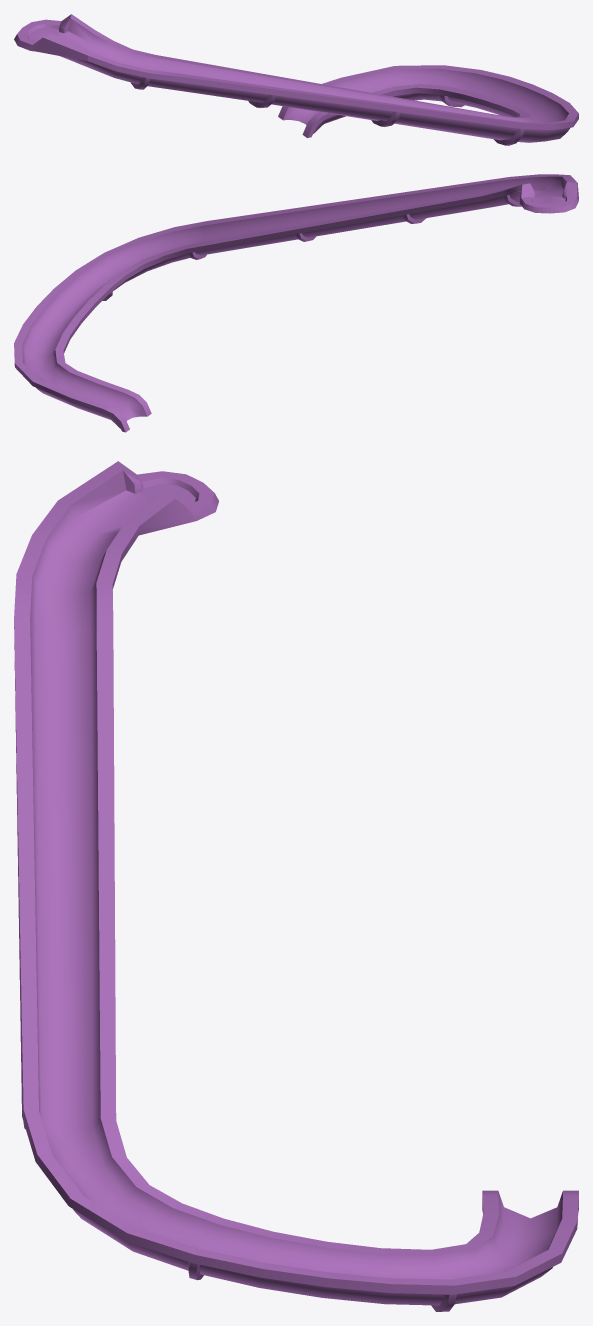
The model's file is slideA.glb.
The picture shows the model from 3 angles, top to bottom: view 1: azimuth 30°, elevation 25°; view 2: azimuth 150°, elevation 25°; view 3: azimuth 270°, elevation 25°; orthographic projection. The views are drawn at different scales.
Parts seen in each view (by area): view 1: slideA; view 2: slideA; view 3: slideA.
Part boxes in pixels (<box>): slideA: <box>14,14,578,145</box>; slideA: <box>14,174,578,432</box>; slideA: <box>14,461,578,1311</box>.
Bounding box in the file's own units: 33.22 × 15.37 × 17.57.
